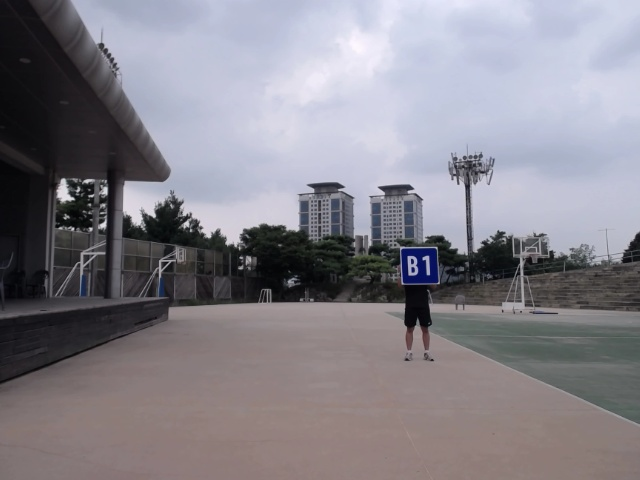delivery_b1: (399, 247, 440, 284)
